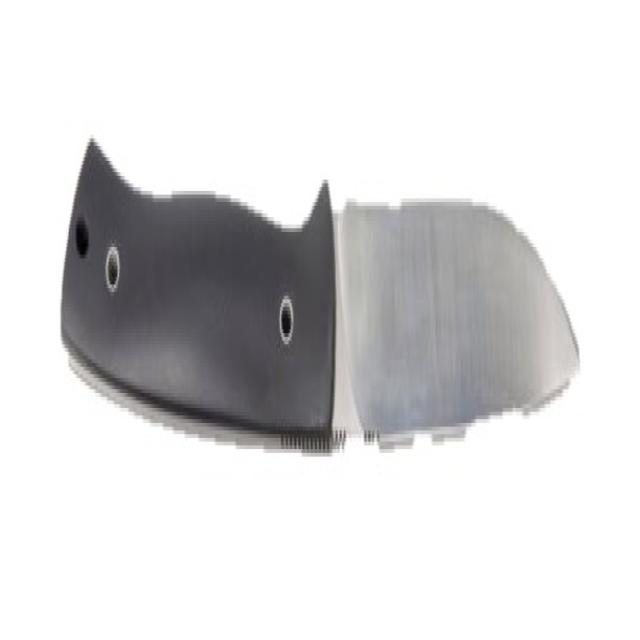knife: (61, 108, 586, 500)
